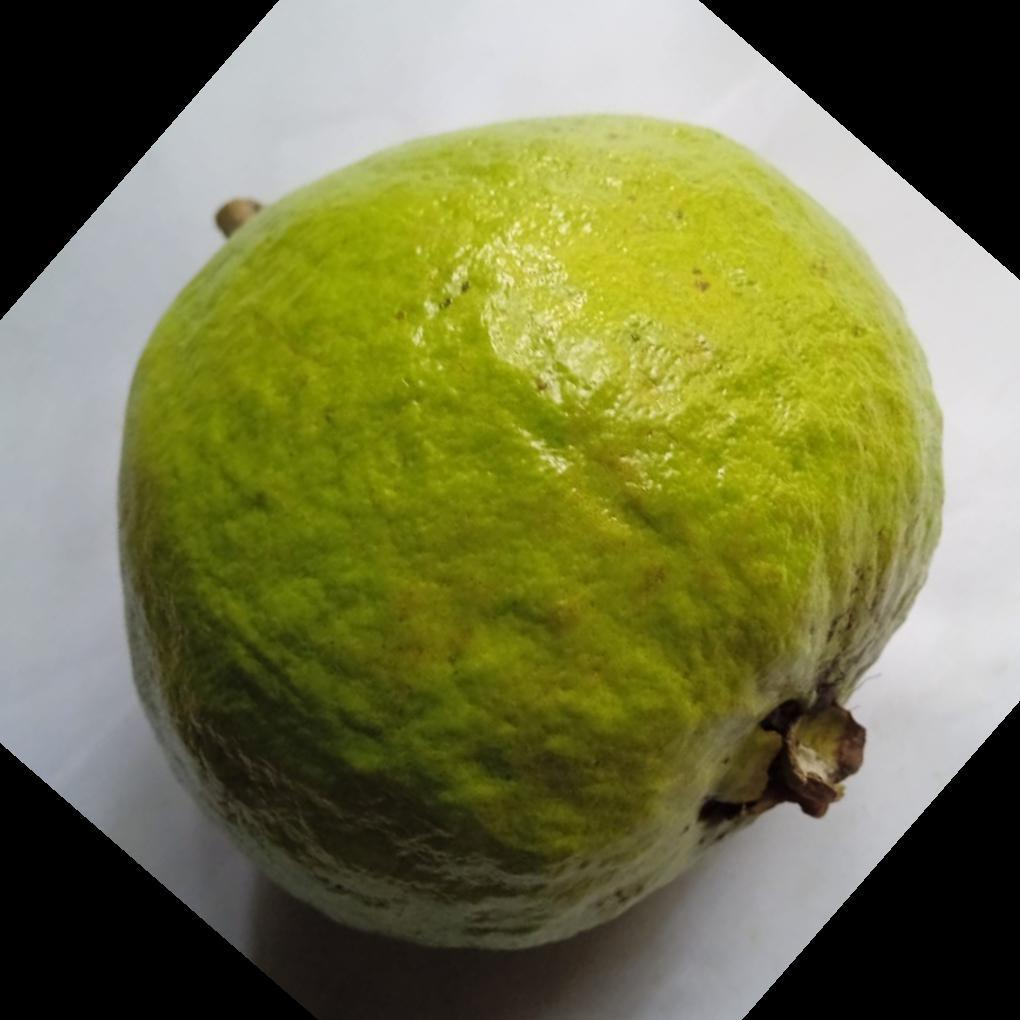FreshGuava: (114, 113, 947, 956)
